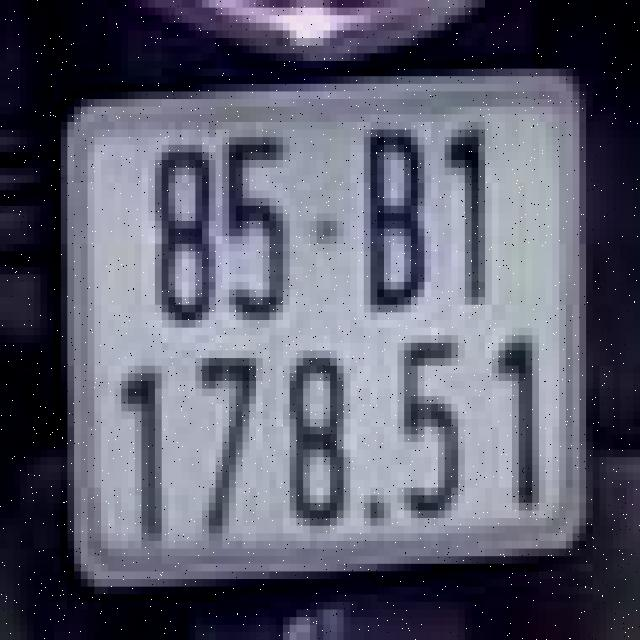1: (98, 347, 172, 568), (488, 312, 556, 526), (441, 110, 502, 324)
5: (387, 324, 482, 522), (222, 114, 296, 328)
7: (182, 332, 263, 552)
8: (273, 336, 354, 534), (142, 134, 222, 332)
B: (360, 114, 428, 320)
